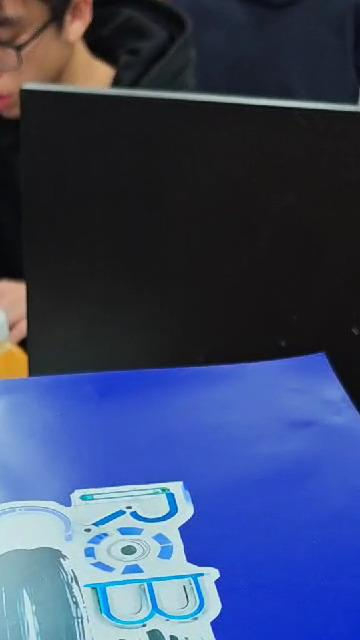B_R1: (0, 403, 229, 640)
